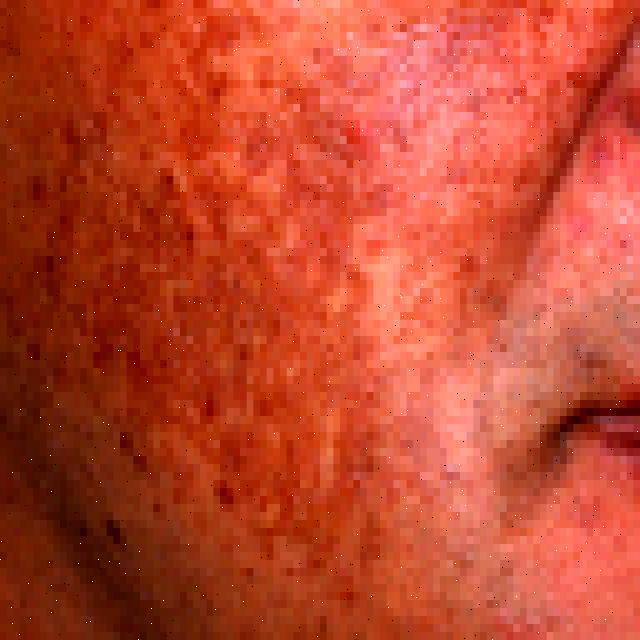Melasma: (15, 0, 595, 636)
